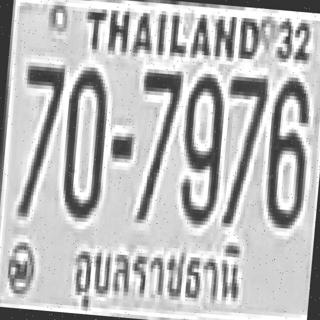N00: (57, 64, 109, 217)
N06: (260, 72, 312, 226)
N07: (130, 64, 182, 222), (13, 61, 63, 215), (216, 72, 266, 225), (17, 61, 63, 167)
N09: (175, 68, 225, 222)
P72: (63, 225, 252, 320)
